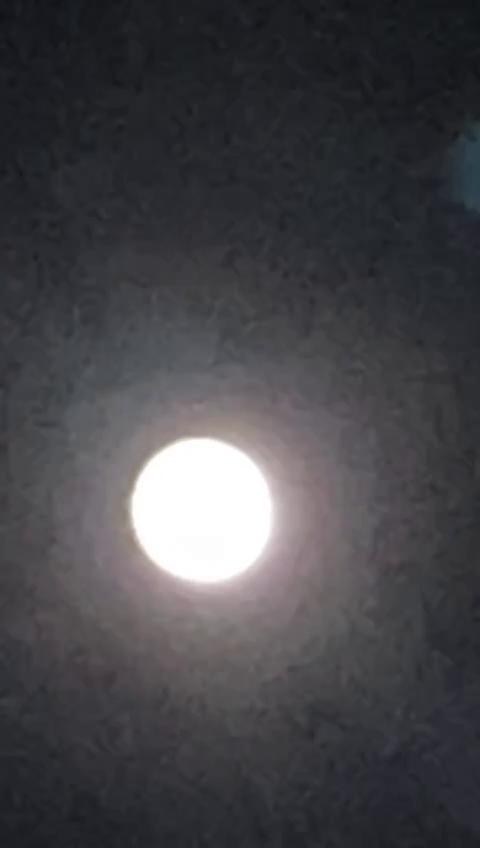moon: (103, 416, 281, 607)
